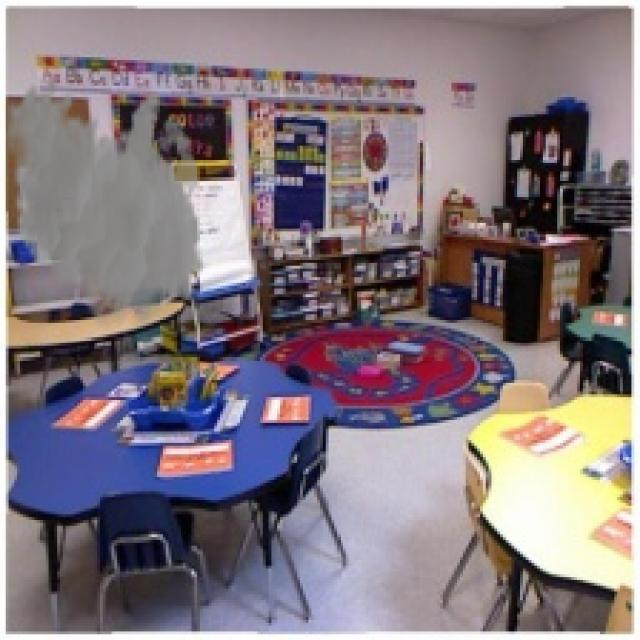Smoke: (6, 77, 206, 337)
